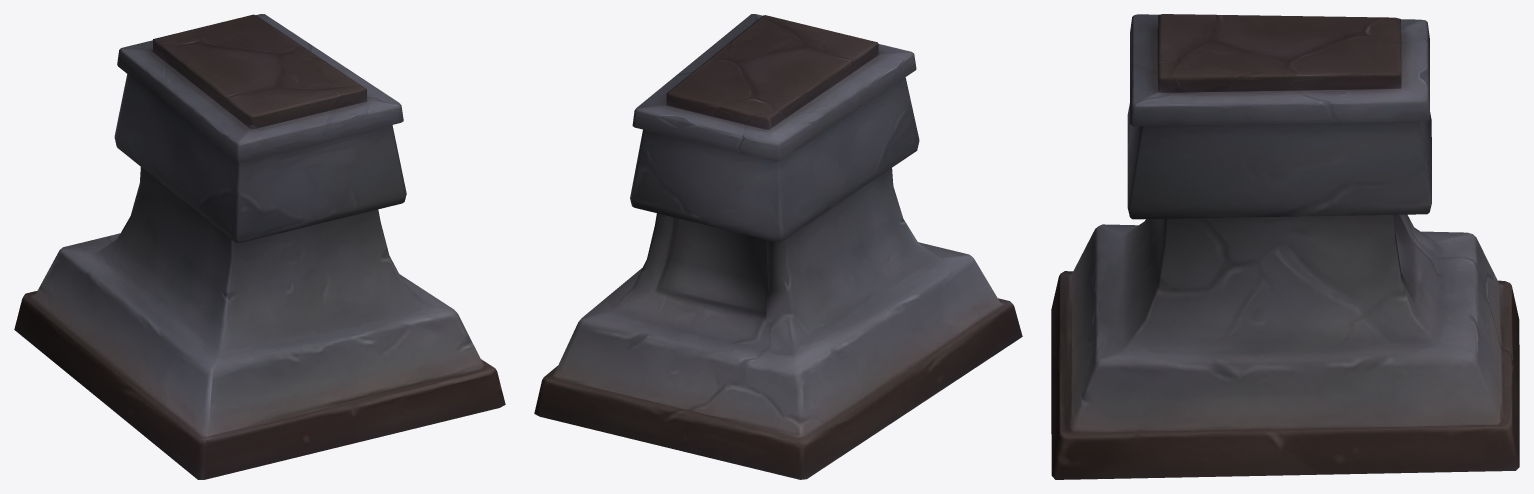
The model's file is TwistedJungle_Wall03.FBX.
The picture shows the model from 3 angles, left to right: view 1: azimuth 30°, elevation 25°; view 2: azimuth 150°, elevation 25°; view 3: azimuth 270°, elevation 25°; orthographic projection. The views are drawn at different scales.
Visible parts, largest first — view 1: TwistedJungle_Wall03; view 2: TwistedJungle_Wall03; view 3: TwistedJungle_Wall03.
Boxes of the visible parts, x1,y1,x2,y2 form: TwistedJungle_Wall03: (14, 14, 505, 479); TwistedJungle_Wall03: (534, 14, 1022, 479); TwistedJungle_Wall03: (1051, 14, 1519, 479).
Bounding box in the file's own units: 184 × 175 × 212.
